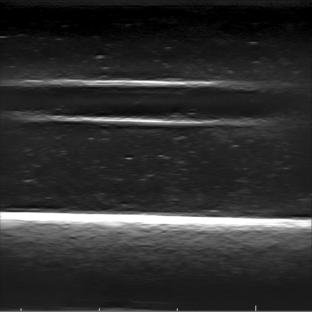vessel: (0, 77, 303, 126)
